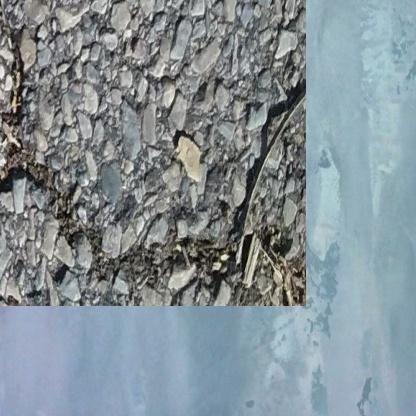Cracks: (0, 0, 283, 283)
